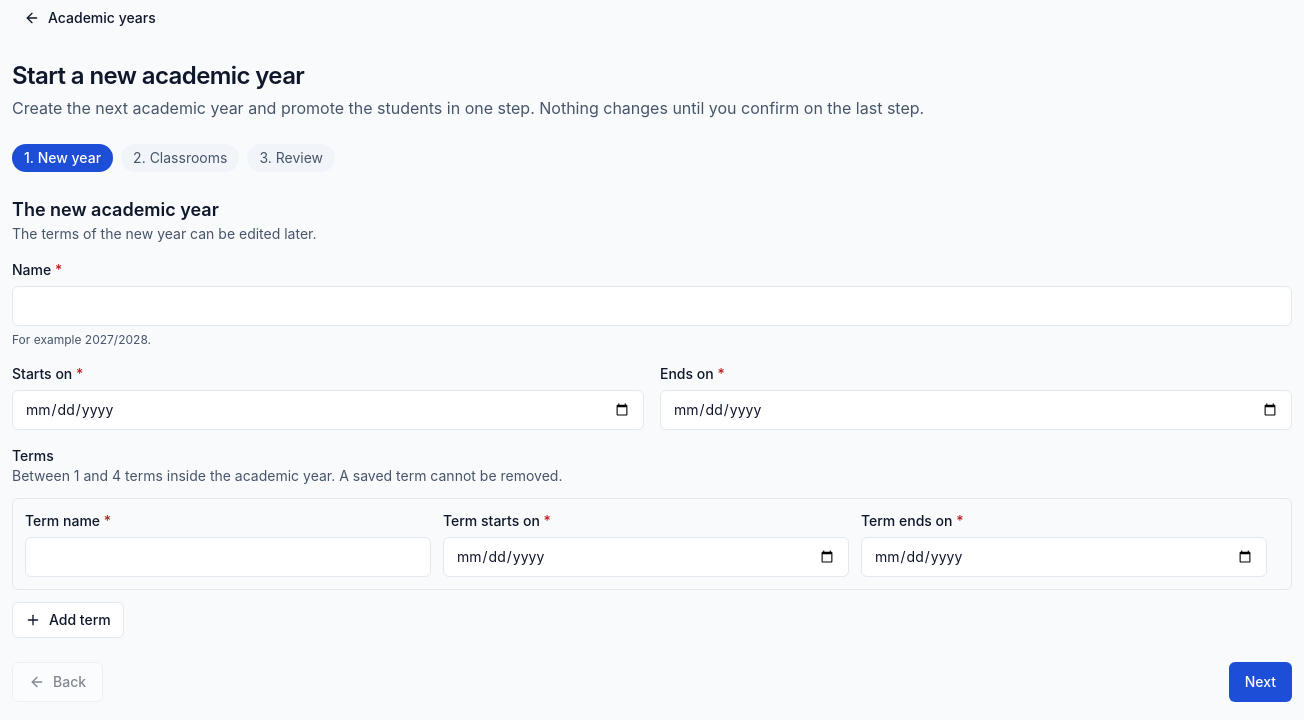
RolloverPage › lists every classroom of the current year with its students on the second step
The image size is (1304, 720).
Expected: the heading "The new academic year" is shown, x1=12 y1=199 x2=219 y2=220
Type "2027/2028" into the field labelled "Name *".
click(652, 306); type("2027/2028")  # box x1=12 y1=286 x2=1292 y2=326
Type "2027-07-12" into the date field labelled "Starts on *".
click(328, 410); type("2027-07-12")  # box x1=12 y1=390 x2=644 y2=430
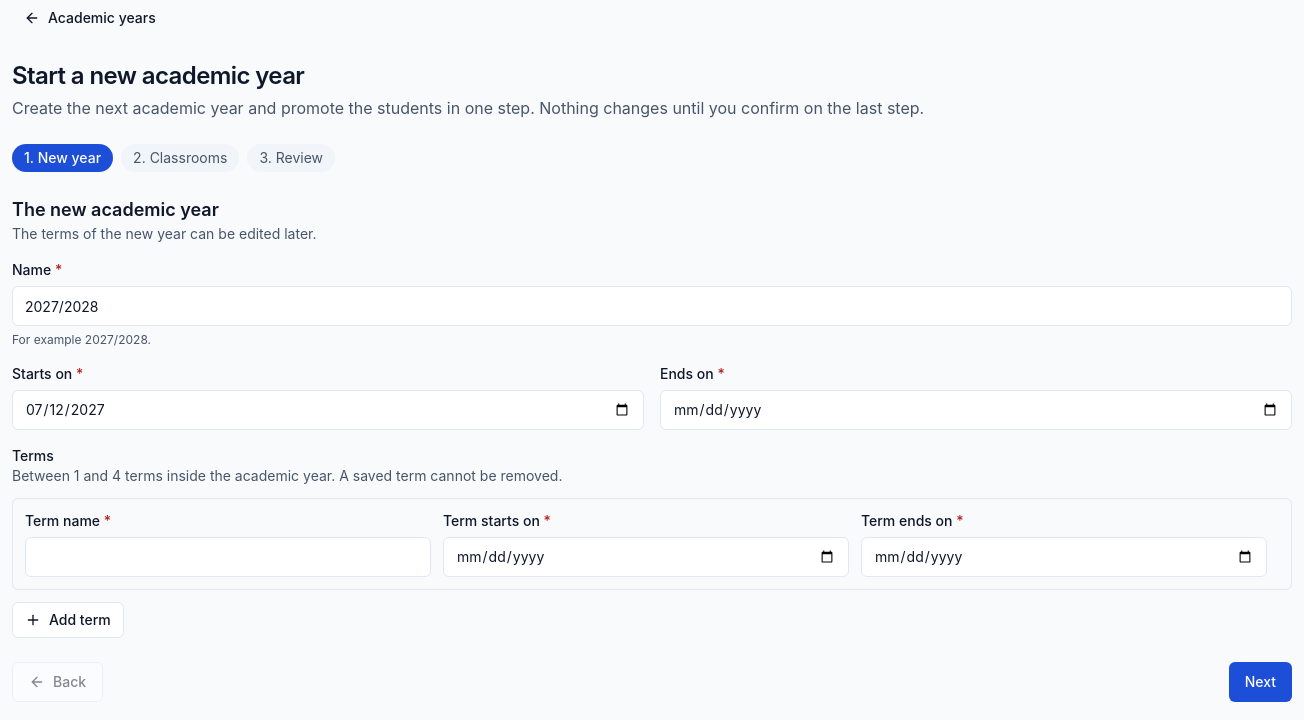
Type "2028-06-24" into the date field labelled "Ends on *".
click(976, 410); type("2028-06-24")  # box x1=660 y1=390 x2=1292 y2=430
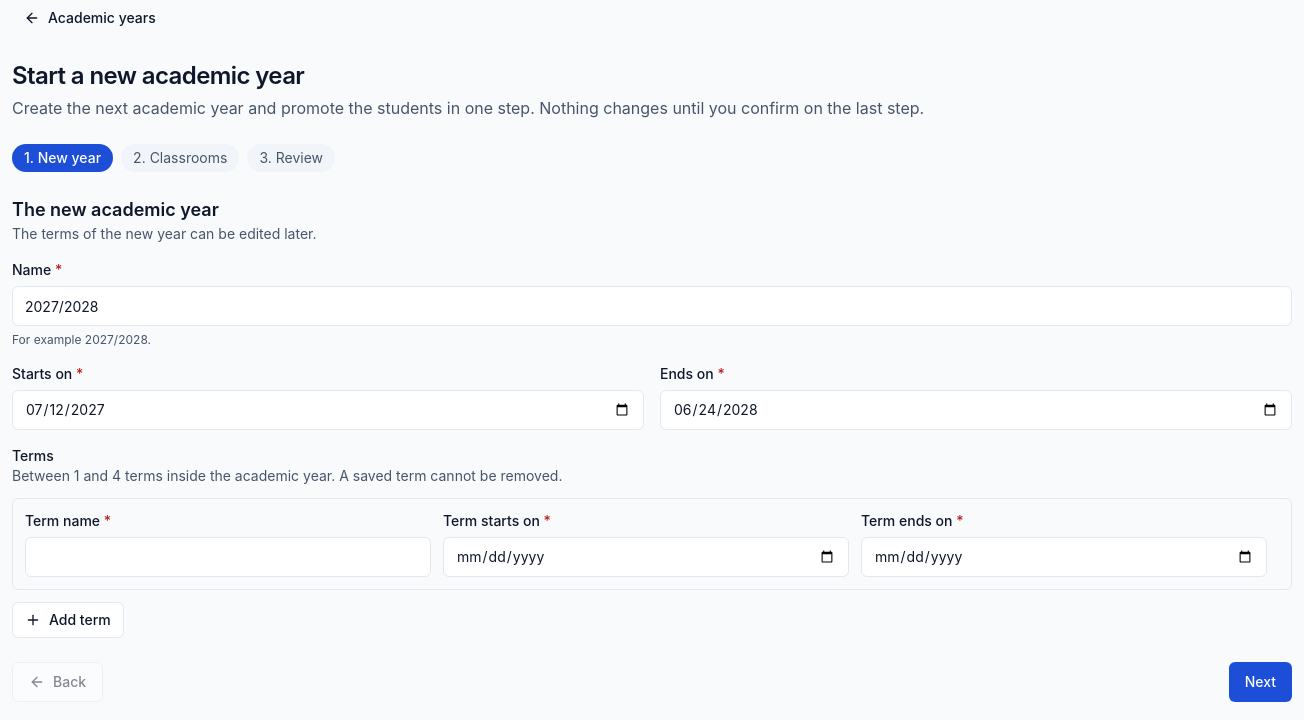
Type "Odd" into the field labelled "Term name *".
click(228, 557); type("Odd")  # box x1=25 y1=537 x2=431 y2=577
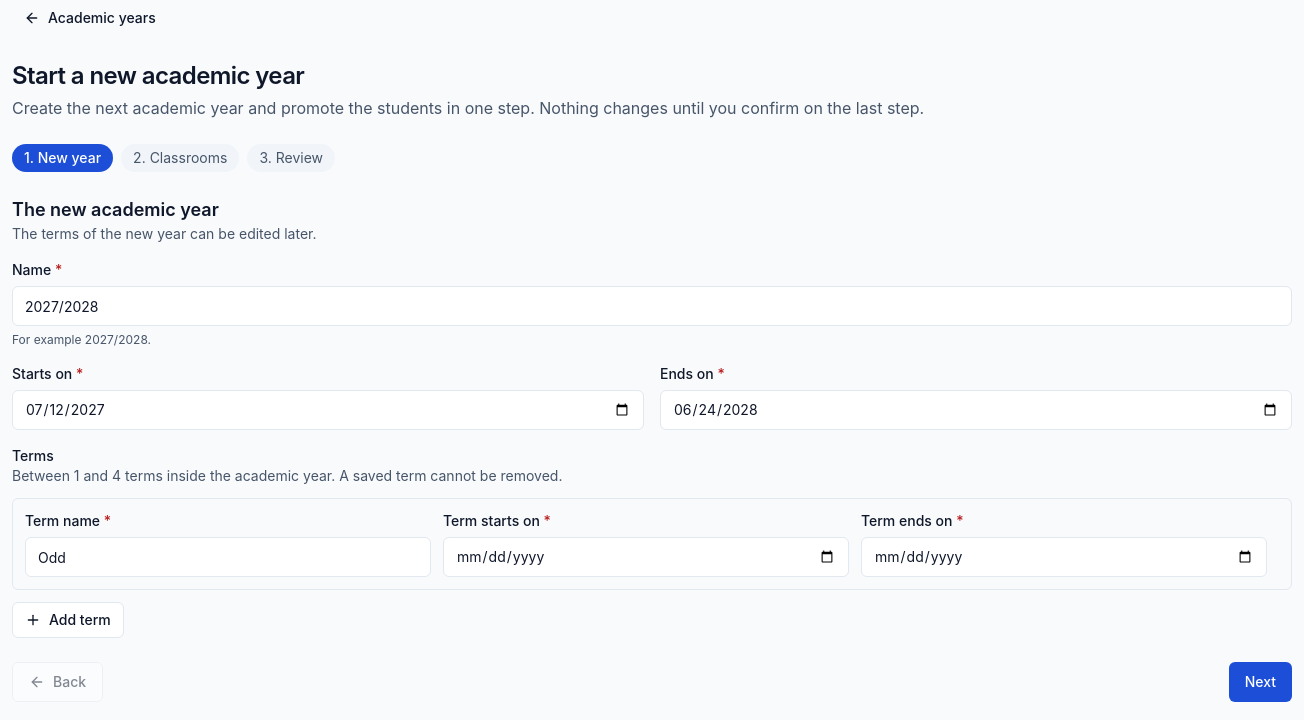
Type "2027-07-12" into the date field labelled "Term starts on *".
click(646, 557); type("2027-07-12")  # box x1=443 y1=537 x2=849 y2=577
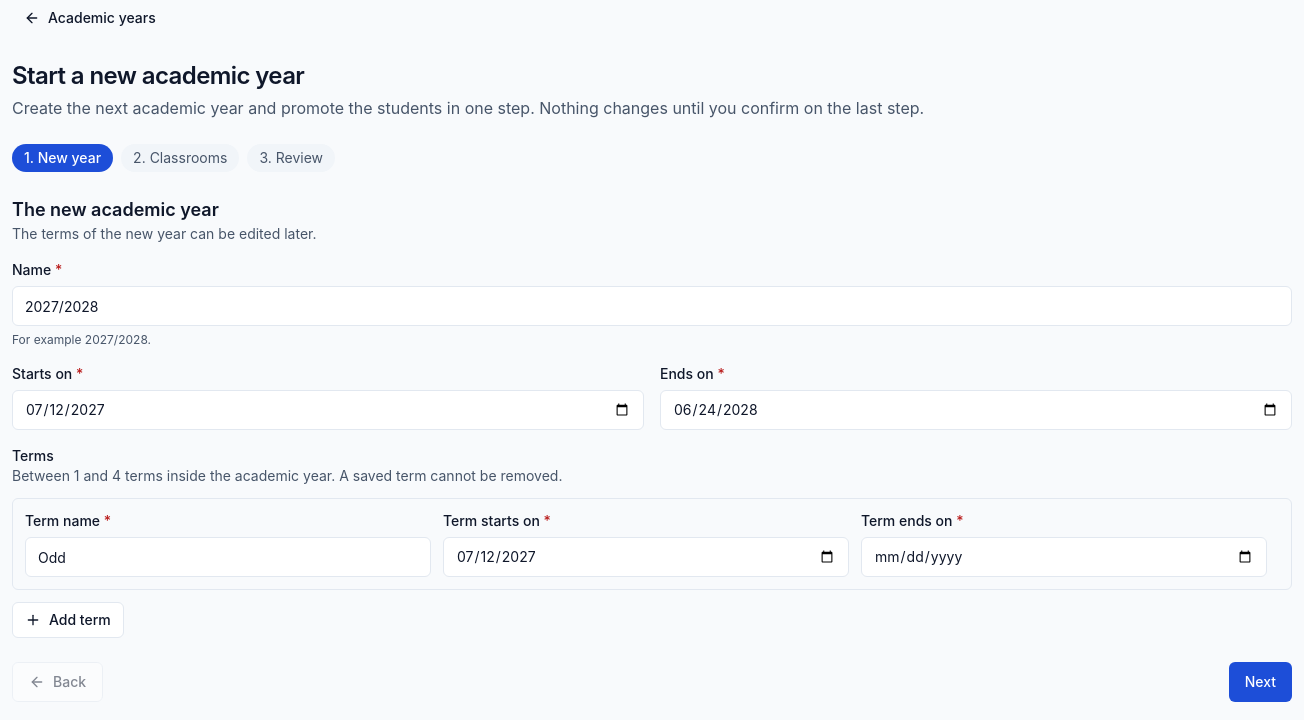
Type "2027-12-18" into the date field labelled "Term ends on *".
click(1064, 557); type("2027-12-18")  # box x1=861 y1=537 x2=1267 y2=577
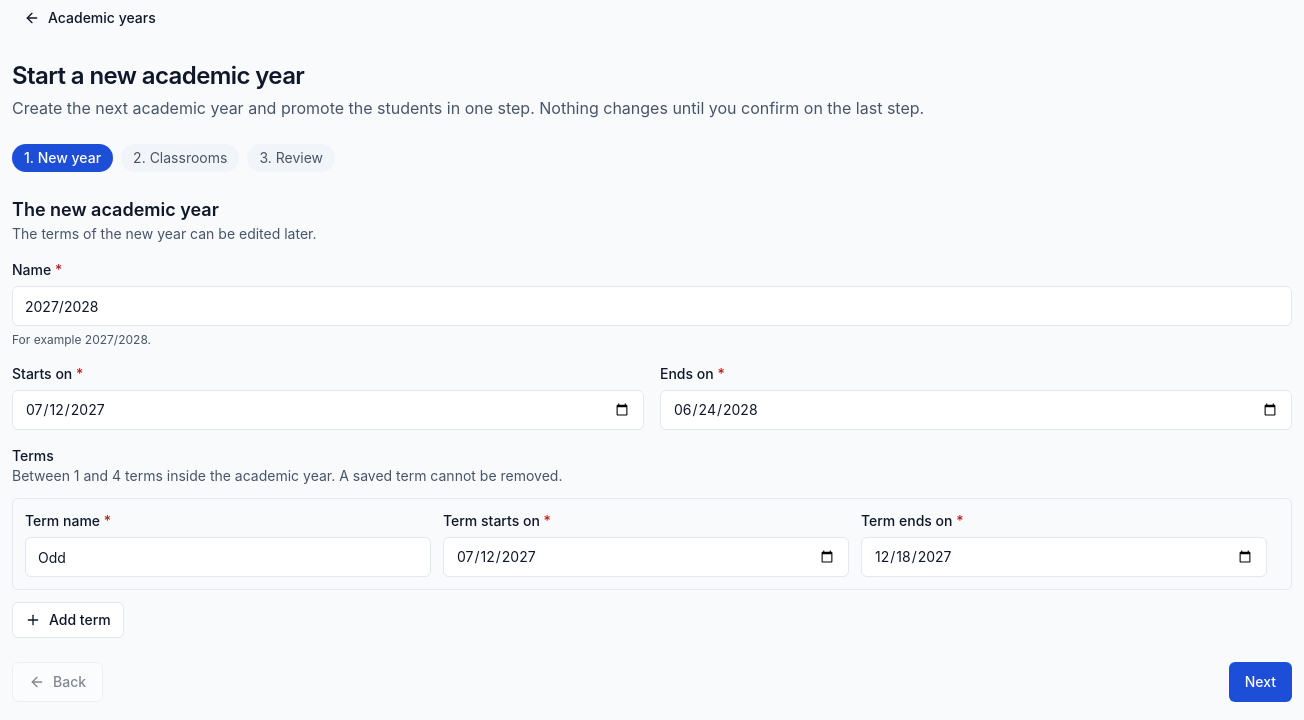
Click the button "Next".
click(1260, 682)  # box x1=1229 y1=662 x2=1292 y2=702
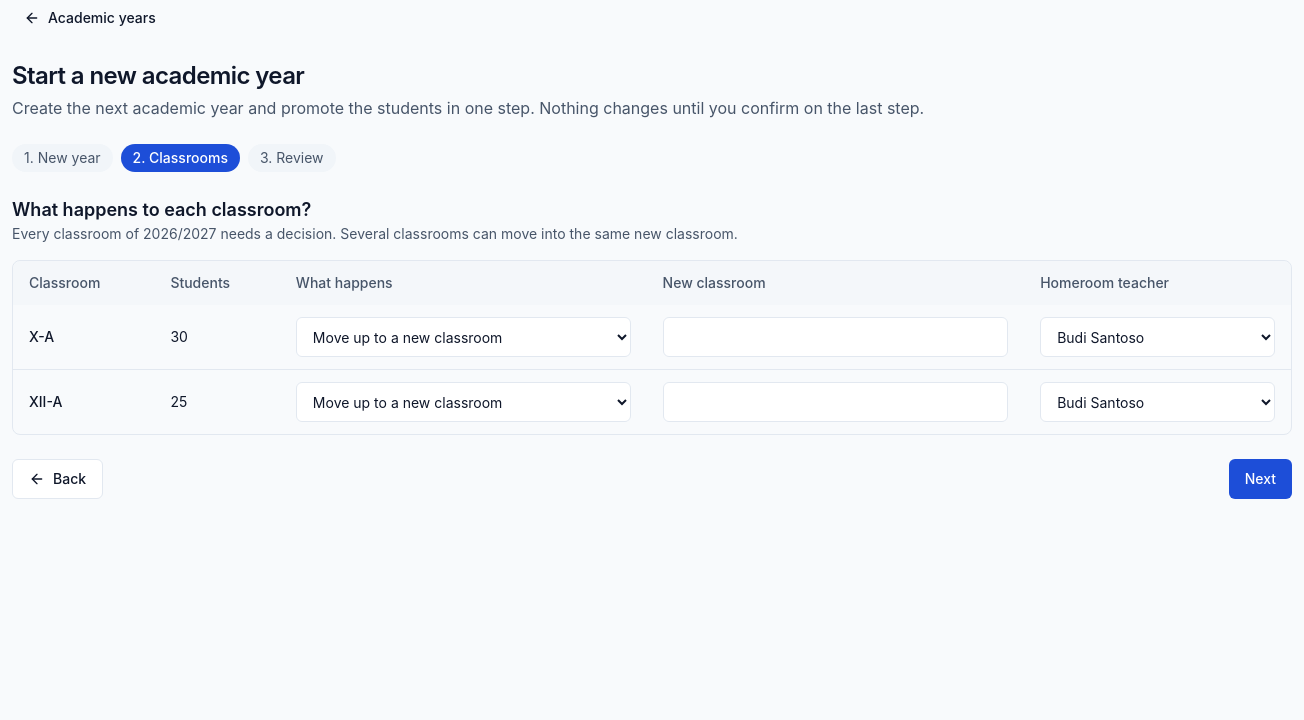
Result: the heading "What happens to each classroom?" is shown at x1=12 y1=199 x2=311 y2=220
Result: the column heading "X-A" is shown at x1=13 y1=305 x2=154 y2=370
Result: the column heading "XII-A" is shown at x1=13 y1=370 x2=154 y2=434
